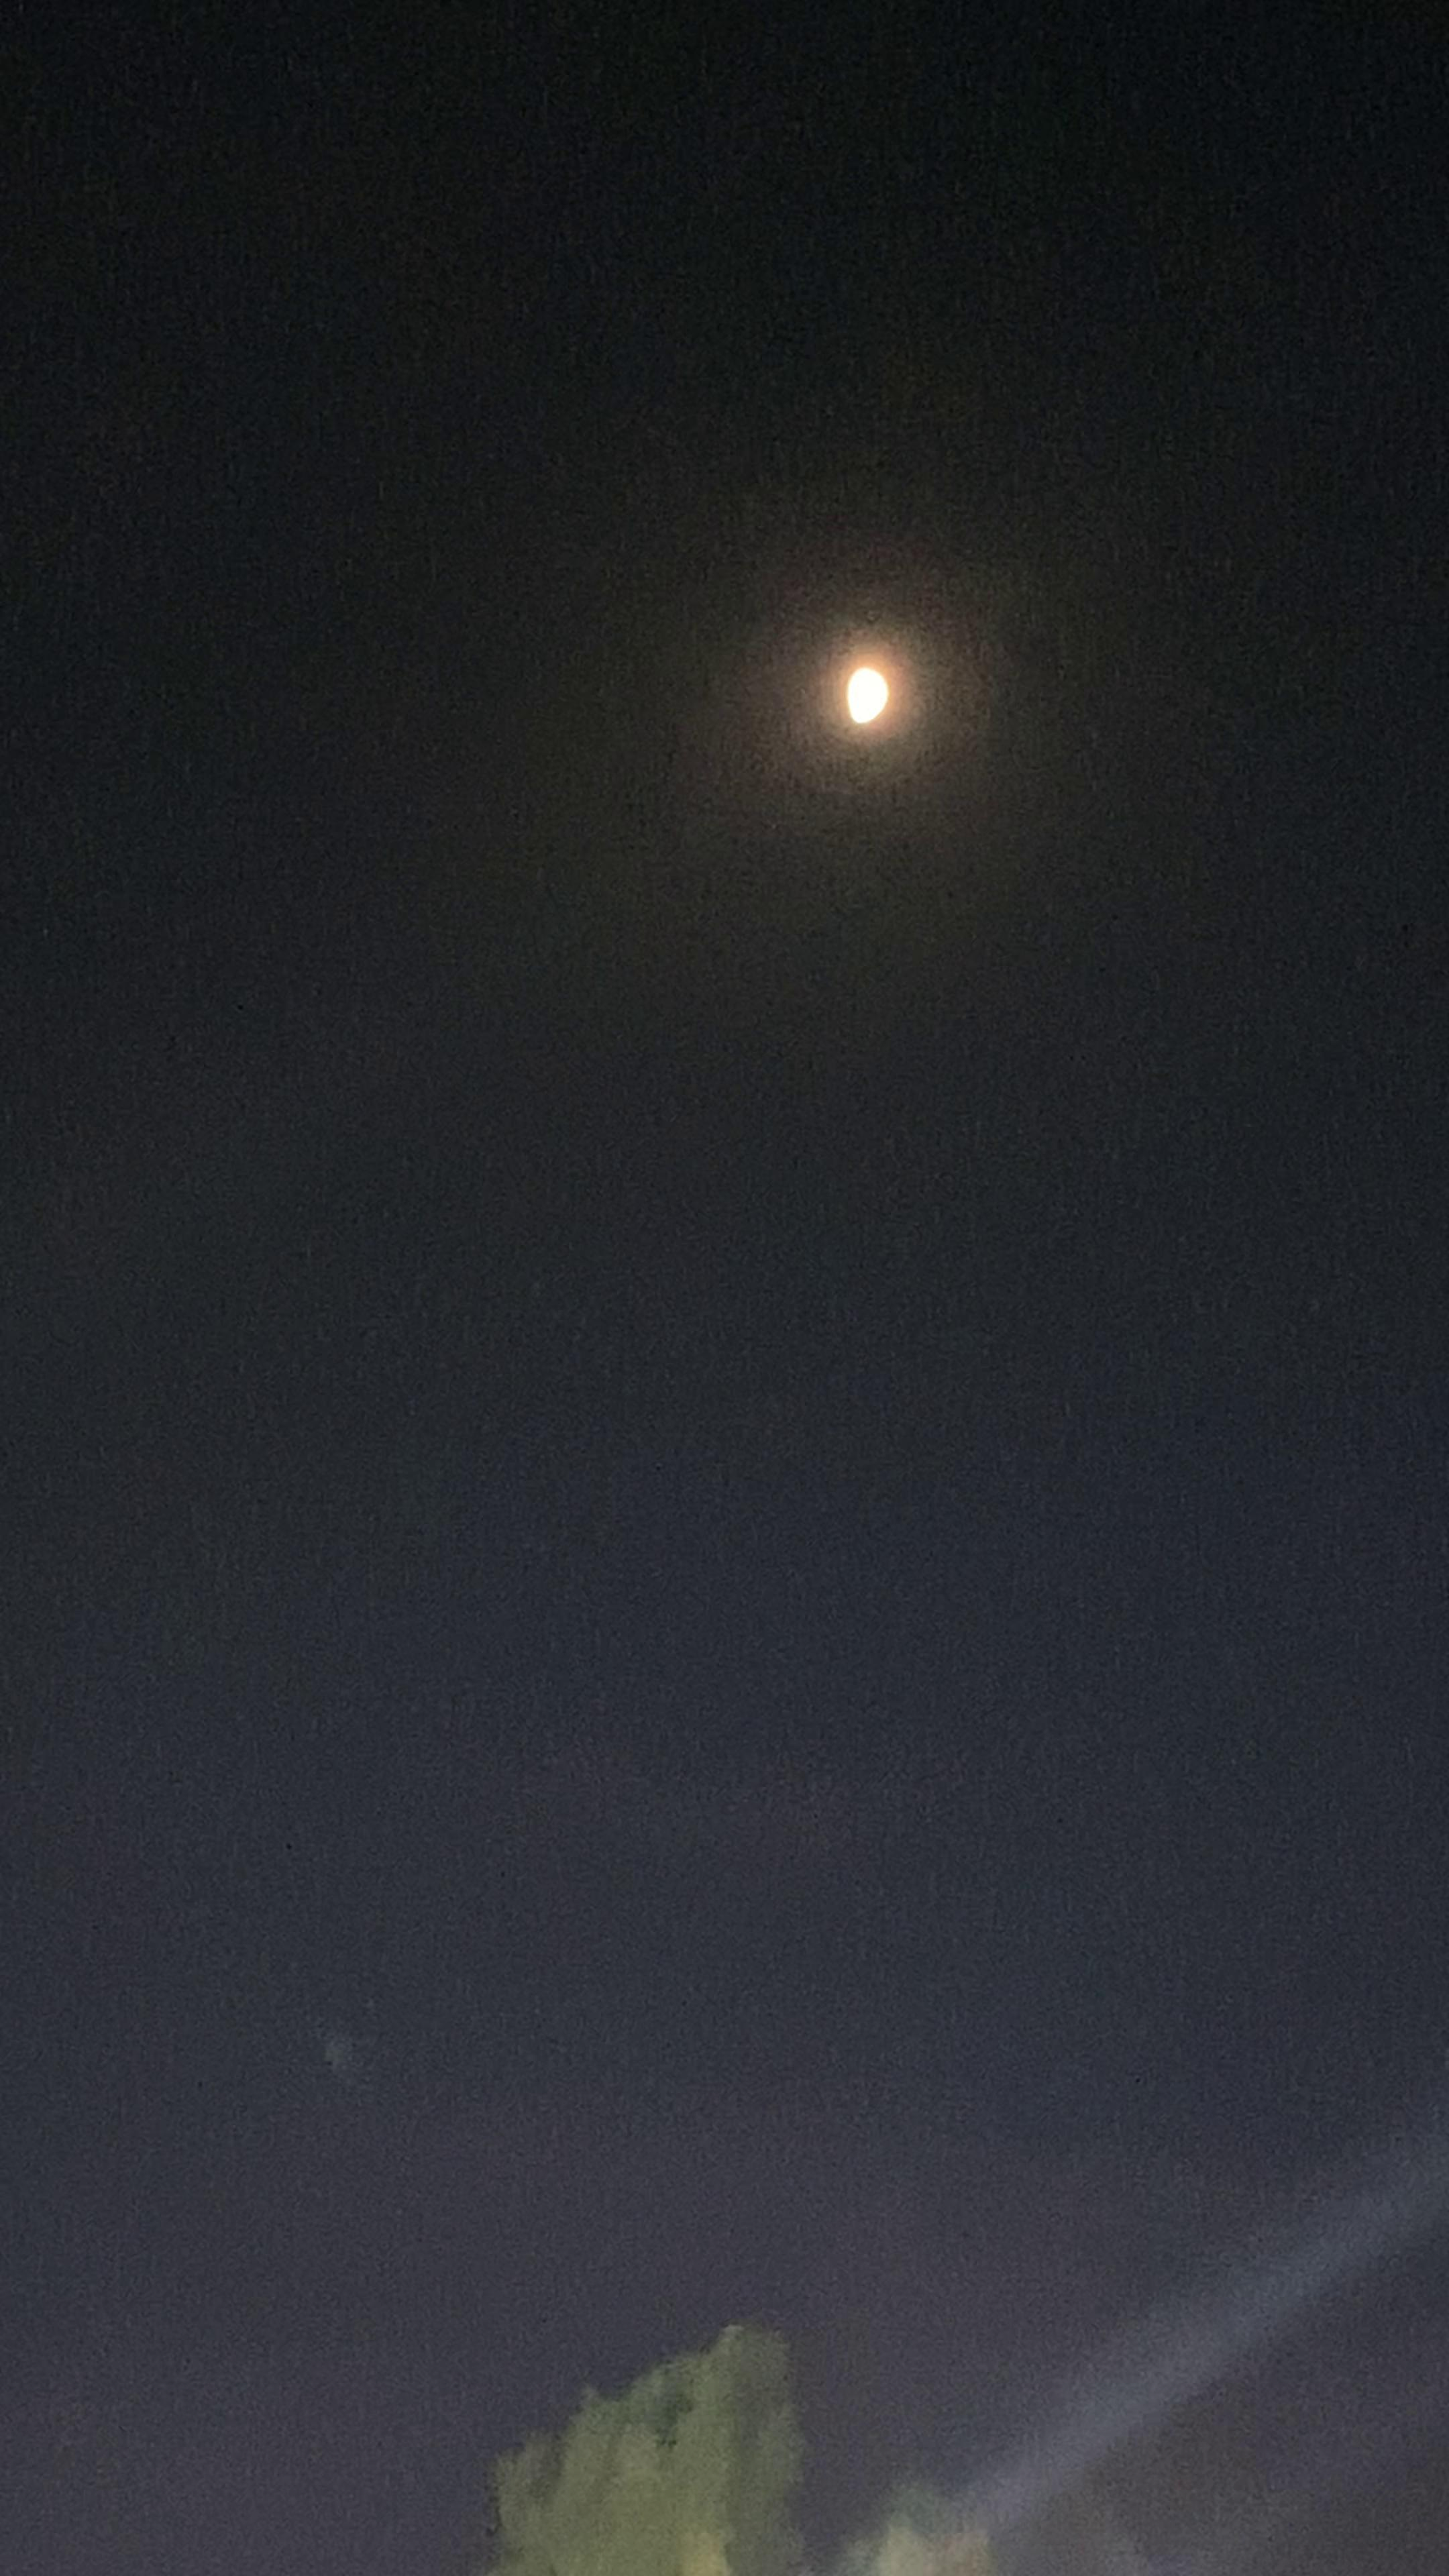moon: (819, 623, 936, 750)
